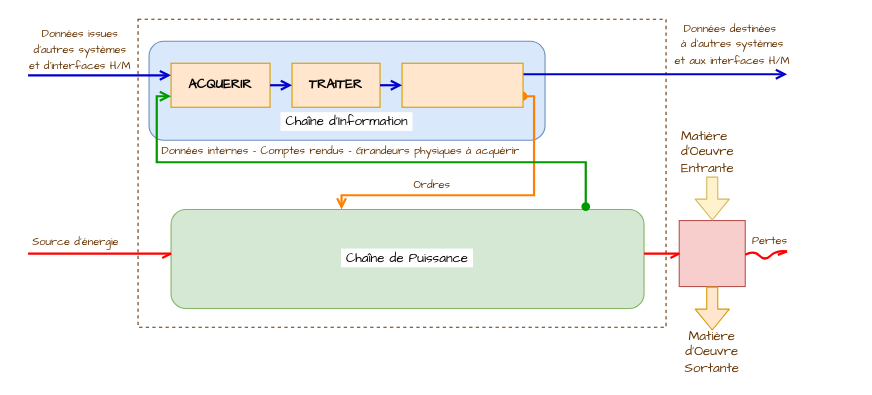
The diagram is 872 pixels wide and 395 high, and some of its shapes have lost their labels. The centre of each missing label's shape, as x and y in pixels:
Action: [711,253]
COMMUNIQUER: [462,84]
